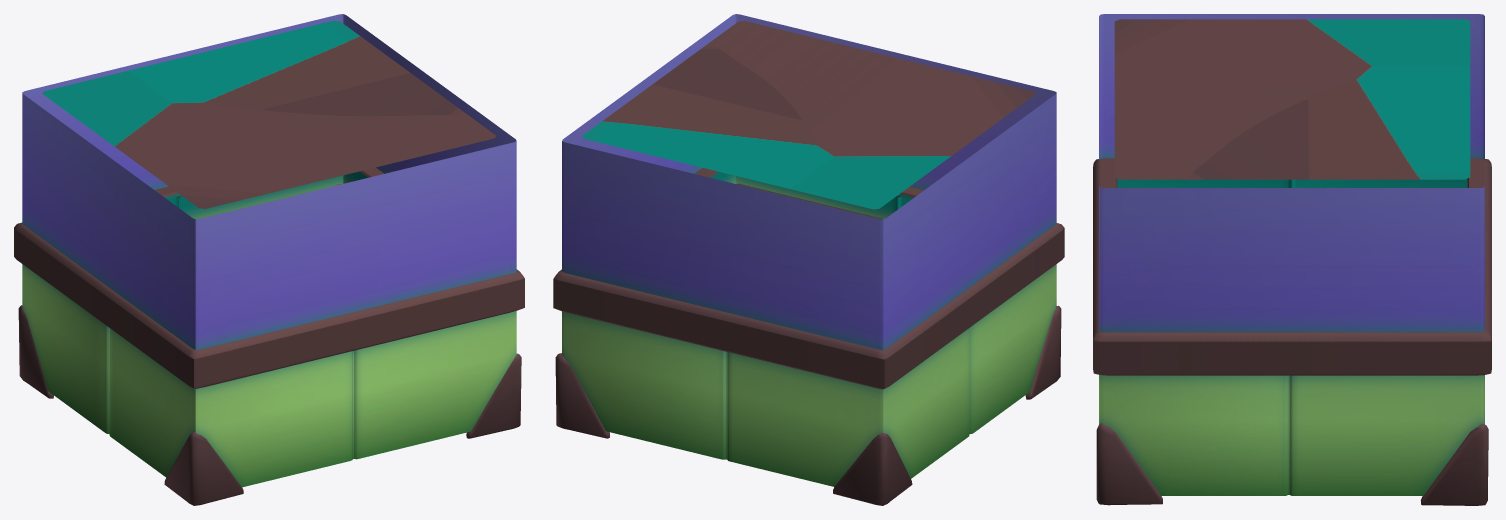
Rendered from HoopsBoxWall3.fbx.
3 views of the same model, side by side, from view 1: azimuth 30°, elevation 25°; view 2: azimuth 150°, elevation 25°; view 3: azimuth 270°, elevation 25° (orthographic). The views are drawn at different scales.
Parts seen in each view (by area): view 1: ENV_S02_MovableBox_MO_0; view 2: ENV_S02_MovableBox_MO_0; view 3: ENV_S02_MovableBox_MO_0.
Part boxes in pixels (x1=…): ENV_S02_MovableBox_MO_0: x1=14, y1=14, x2=524, y2=505; ENV_S02_MovableBox_MO_0: x1=553, y1=14, x2=1064, y2=505; ENV_S02_MovableBox_MO_0: x1=1093, y1=14, x2=1491, y2=505.
Bounding box in the file's own units: 12.26 × 10.14 × 11.51.
